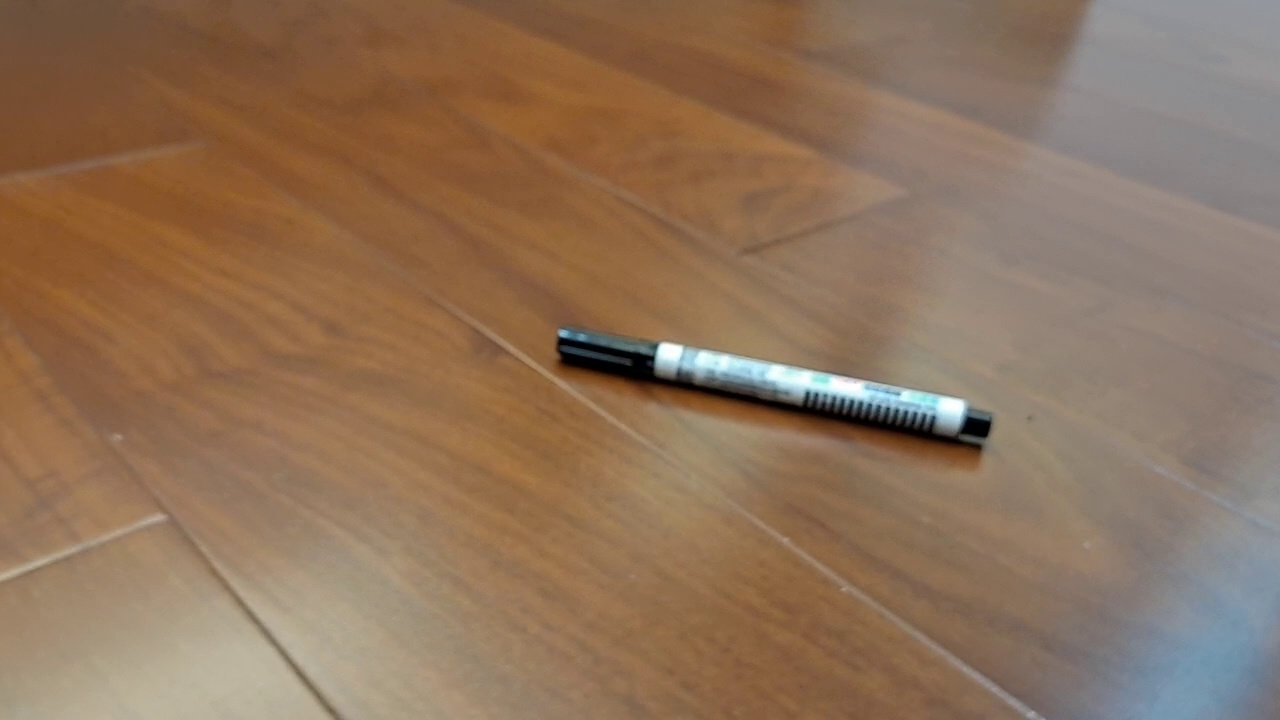pen: (555, 323, 993, 441)
